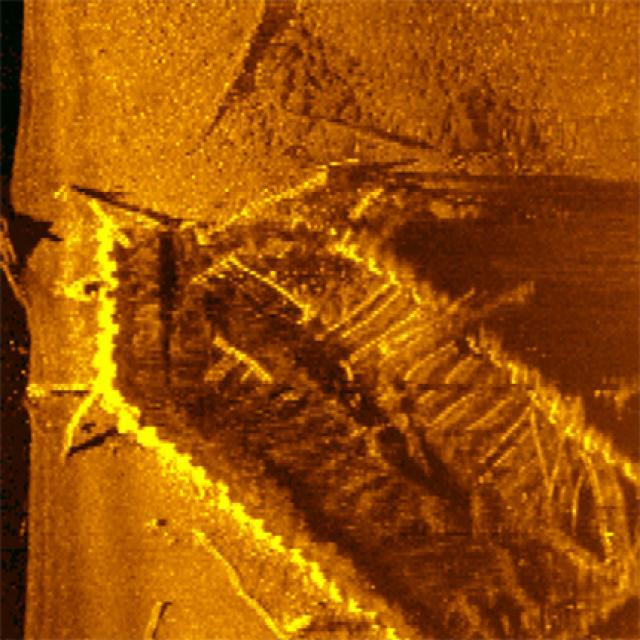shipwreck: (95, 204, 627, 637)
